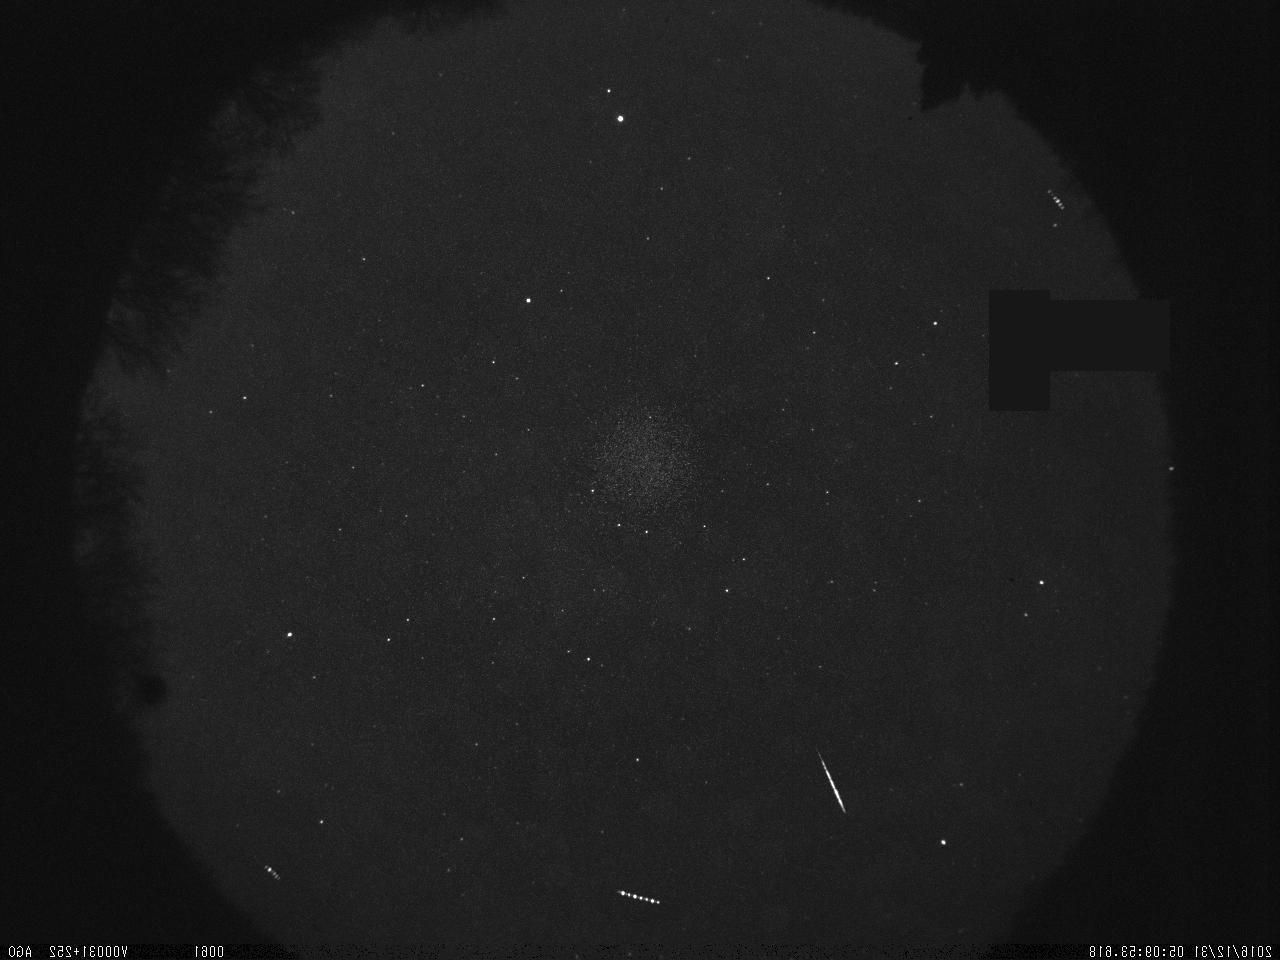meteor: (806, 738, 852, 821)
satelite: (608, 879, 667, 917), (1039, 184, 1068, 218), (257, 855, 285, 887)
